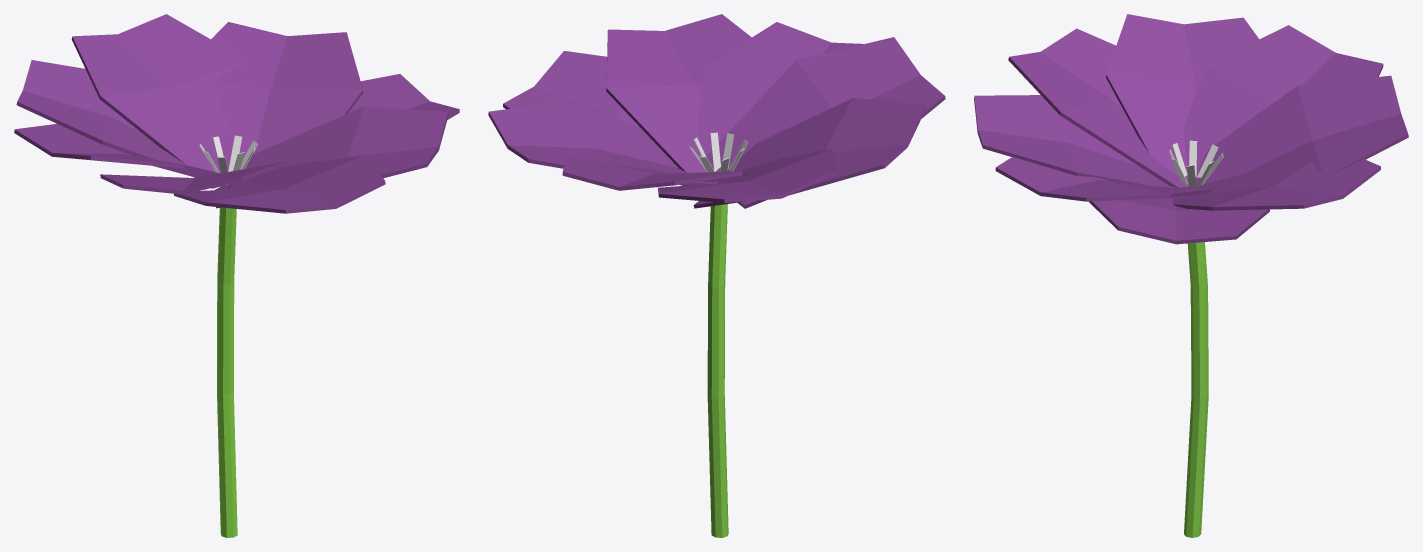
The model's file is violet.glb.
The picture shows the model from 3 angles, left to right: view 1: azimuth 30°, elevation 25°; view 2: azimuth 150°, elevation 25°; view 3: azimuth 270°, elevation 25°; orthographic projection. The views are drawn at different scales.
Parts seen in each view (by area): view 1: Plane.001, Cylinder.002, Plane.003; view 2: Plane.001, Cylinder.002, Plane.003; view 3: Plane.001, Cylinder.002, Plane.003.
Boxes of the visible parts, left/top/right/bottom form: Plane.001: left=14, top=14, right=459, bottom=213; Cylinder.002: left=217, top=207, right=237, bottom=537; Plane.003: left=199, top=135, right=257, bottom=183; Plane.001: left=488, top=14, right=945, bottom=208; Cylinder.002: left=707, top=204, right=728, bottom=537; Plane.003: left=689, top=132, right=747, bottom=172; Plane.001: left=974, top=14, right=1408, bottom=244; Cylinder.002: left=1184, top=242, right=1208, bottom=537; Plane.003: left=1169, top=140, right=1223, bottom=187.
Size of the model in its own units: 0.5514 by 0.6135 by 0.5505.
